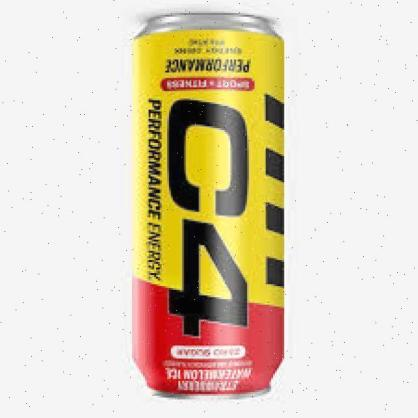can: (126, 9, 289, 403)
